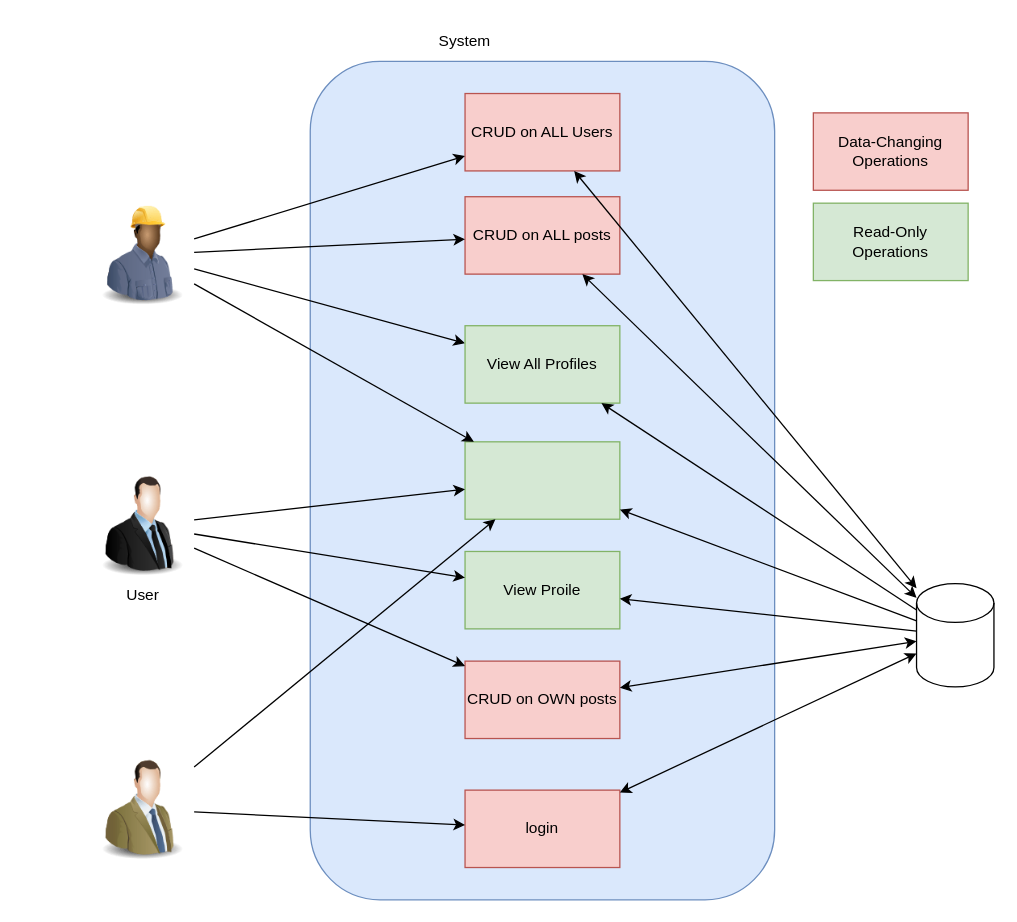
Image size: 1017x922. Some labels were removed from this diagram. Here are the shapes that lost their labels. From the top down, the centre of each, then its label:
At pixel 142 254: "Admin".
At pixel 542 480: "See all Posts".
At pixel 954 634: "DB".
At pixel 142 808: "Anonymous, yet not logged in User".
